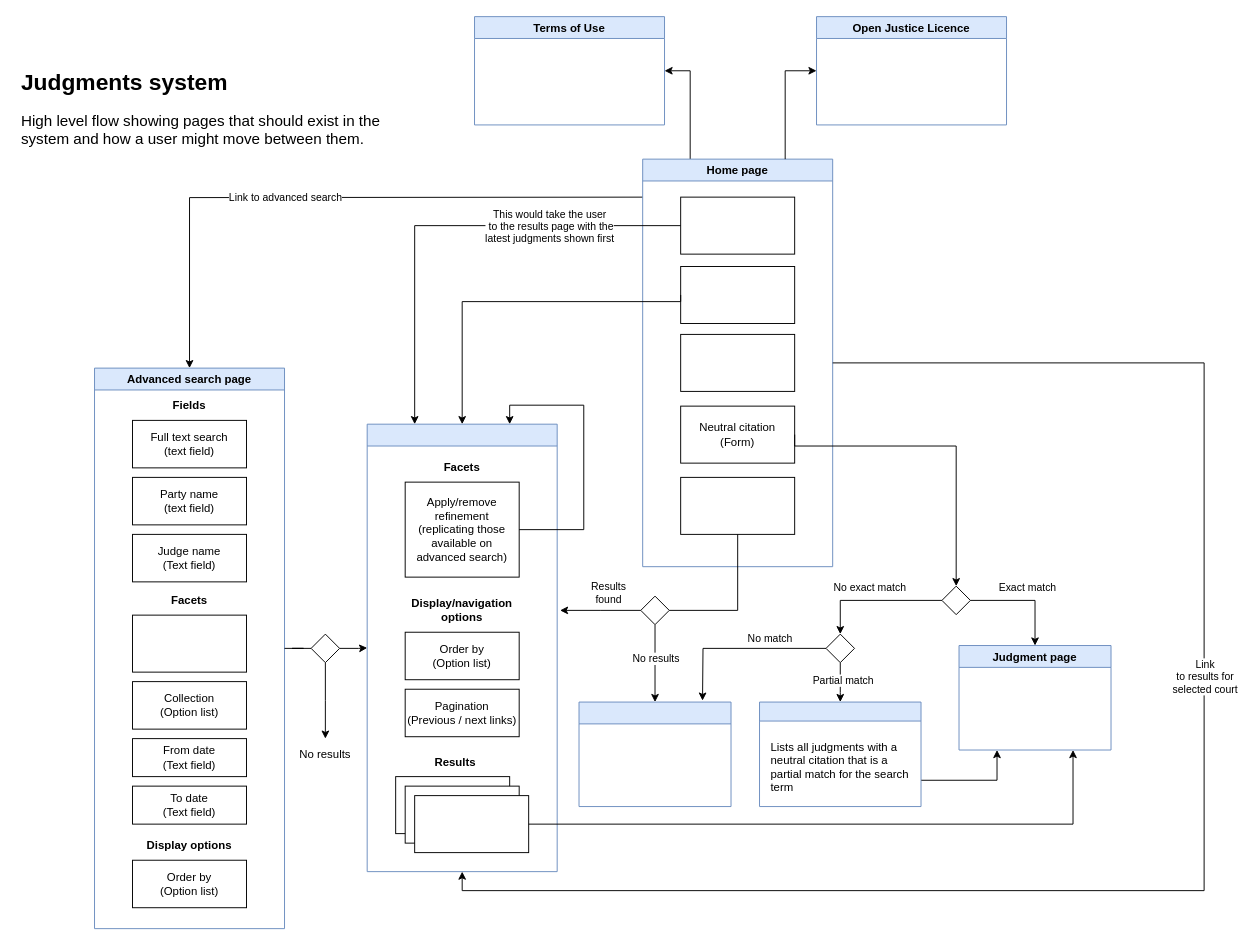
Some shapes in this 1253 by 945 pixel diagram are drawn without their labels. The box of each missing label's shape, as (x1, y1, x2, y2) in pixels:
Basic search (Form): (680, 476, 795, 534)
Browse by court: (680, 333, 795, 391)
Collections (List): (680, 266, 795, 323)
Court (Select with opt group): (132, 614, 247, 672)
Disambiguation page: (759, 701, 921, 807)
Judgment: (414, 795, 529, 853)
Latest judgments (Link): (680, 196, 795, 254)
No results page: (578, 701, 731, 807)
Results page: (366, 423, 557, 872)
